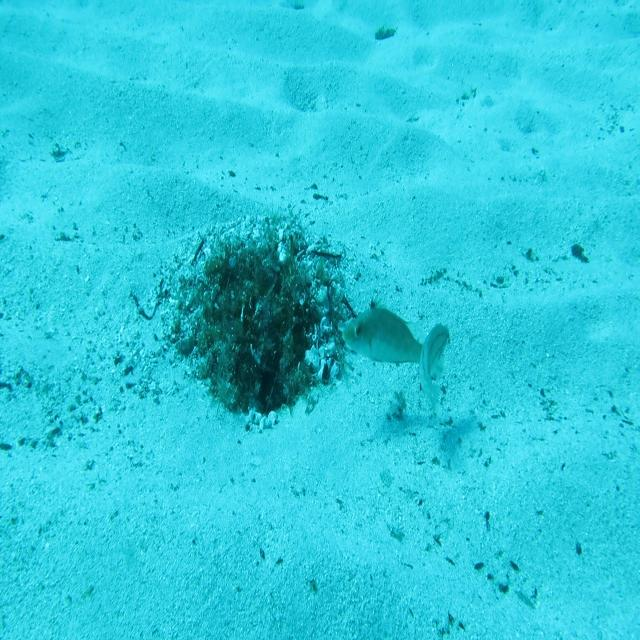BK_SW: (341, 288, 424, 367)
core_nest: (229, 259, 283, 297)
female: (418, 320, 450, 420)
nest: (155, 208, 364, 450)
vegetation: (374, 24, 399, 46)
